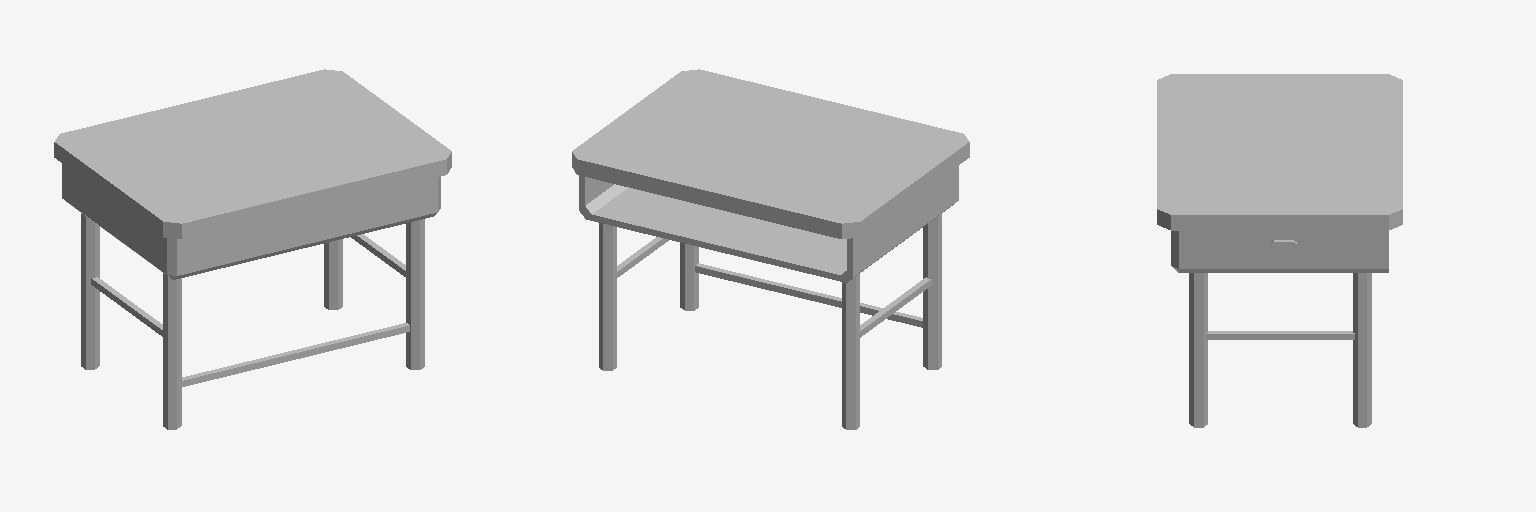
File: hor1 table.obj
3 views of the same model, side by side, from view 1: azimuth 30°, elevation 25°; view 2: azimuth 150°, elevation 25°; view 3: azimuth 270°, elevation 25° (orthographic).
Visible parts, largest first — view 1: Plane.005; view 2: Plane.005; view 3: Plane.005.
Boxes of the visible parts, x1,y1,x2,y2 form: Plane.005: [54, 69, 451, 429]; Plane.005: [572, 69, 969, 429]; Plane.005: [1157, 74, 1402, 427].
Size of the model in its own units: 0.9783 by 0.7 by 0.7073.